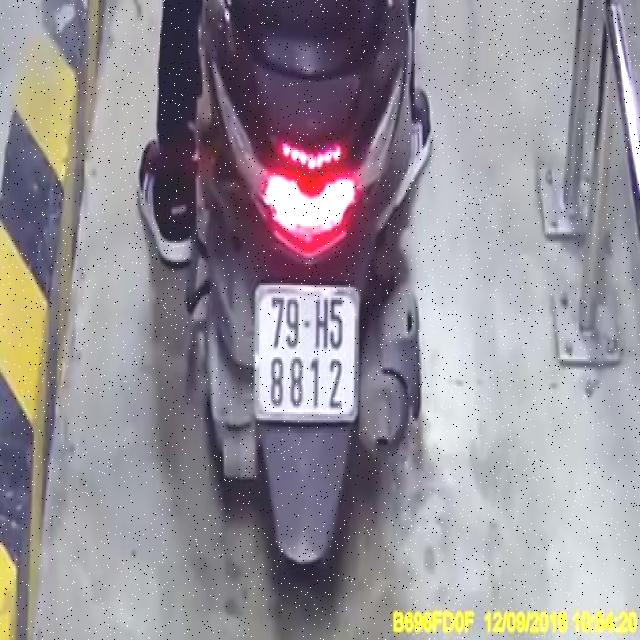1: (310, 357, 320, 412)
2: (329, 358, 343, 412)
5: (328, 299, 346, 349)
7: (269, 295, 283, 349)
8: (270, 354, 287, 410), (289, 355, 304, 406)
9: (285, 298, 301, 347)
H: (314, 298, 329, 350)
